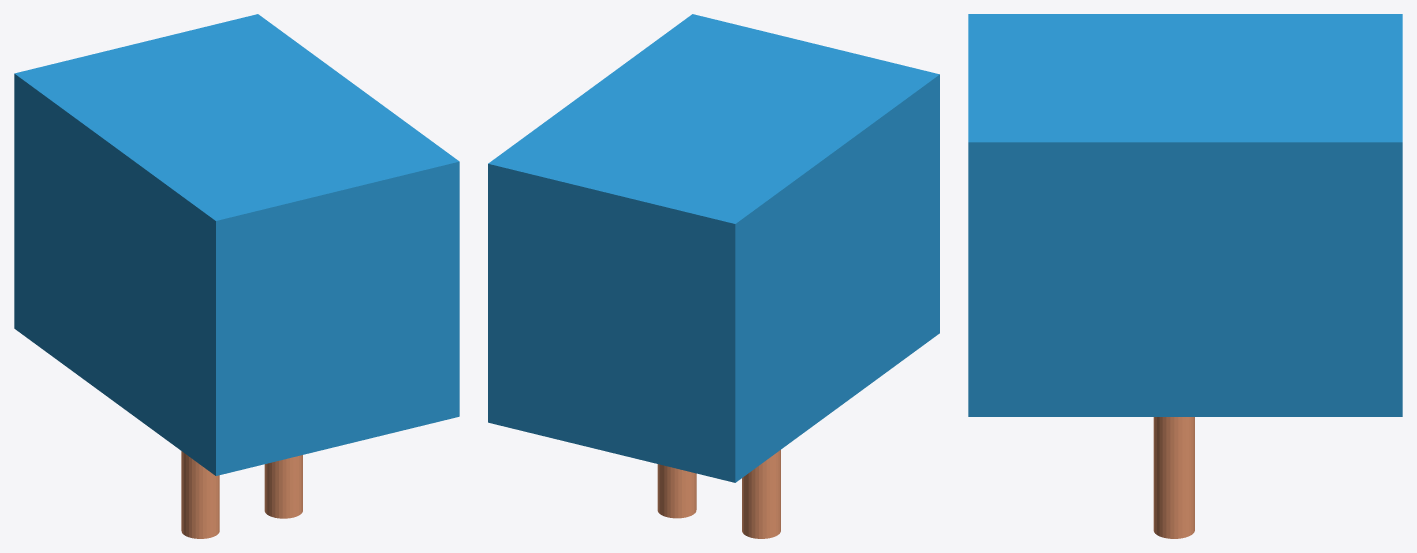
File: legfish.glb
The picture shows the model from 3 angles, left to right: view 1: azimuth 30°, elevation 25°; view 2: azimuth 150°, elevation 25°; view 3: azimuth 270°, elevation 25°; orthographic projection. The views are drawn at different scales.
Parts seen in each view (by area): view 1: Cube, Cylinder.001, Cylinder; view 2: Cube, Cylinder.001, Cylinder; view 3: Cube, Cylinder.
Boxes of the visible parts, <box> form: Cube: <box>14,14,459,475</box>; Cylinder.001: <box>181,451,219,538</box>; Cylinder: <box>264,455,302,518</box>; Cube: <box>488,14,939,482</box>; Cylinder.001: <box>742,450,780,538</box>; Cylinder: <box>657,464,696,518</box>; Cube: <box>968,14,1402,416</box>; Cylinder: <box>1153,417,1194,538</box>.
Bounding box in the file's own units: 1.47 × 2.29 × 2.1.
